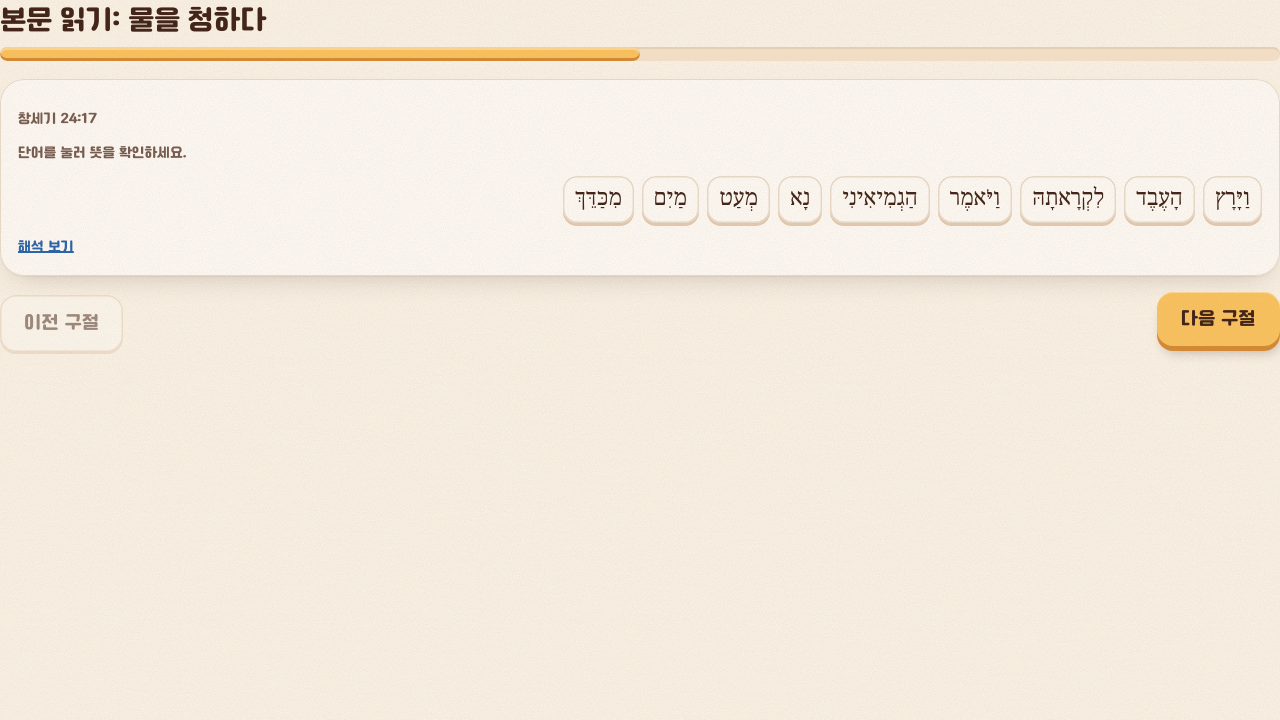
Test: ReadingView › finishing completes the lesson with all lemma ids and shows xp
The width and height of the screenshot is (1280, 720).
Click the button "다음 구절".
click(1218, 319)  # box [1157,292,1279,346]
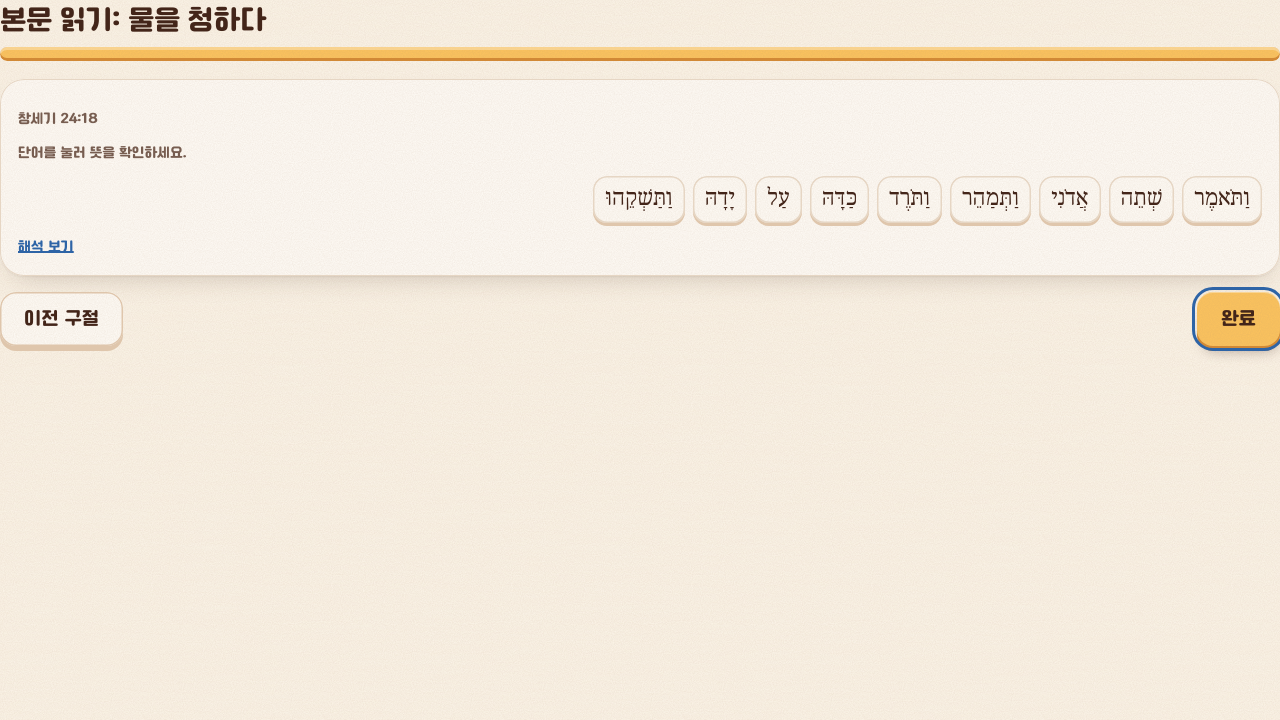
Click the button "완료".
click(1238, 319)  # box [1197,292,1279,346]
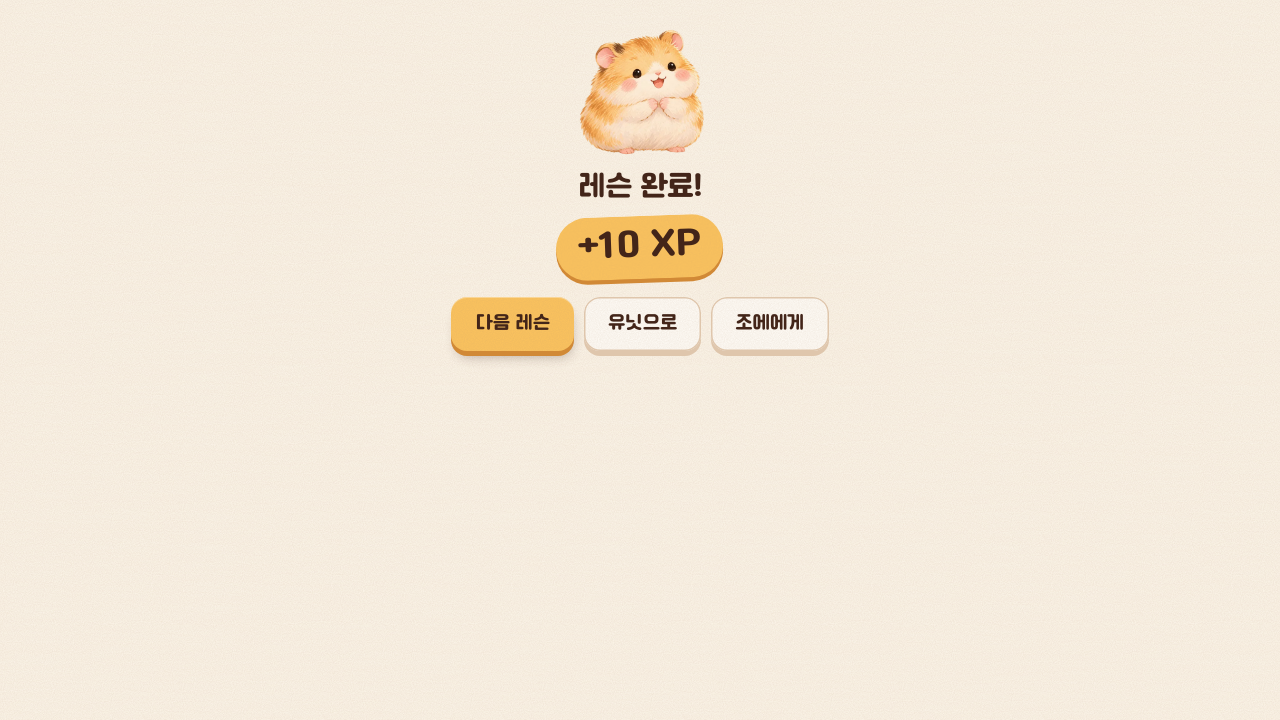
Expected: the text "+10 XP" is shown, [555,213,725,282]
